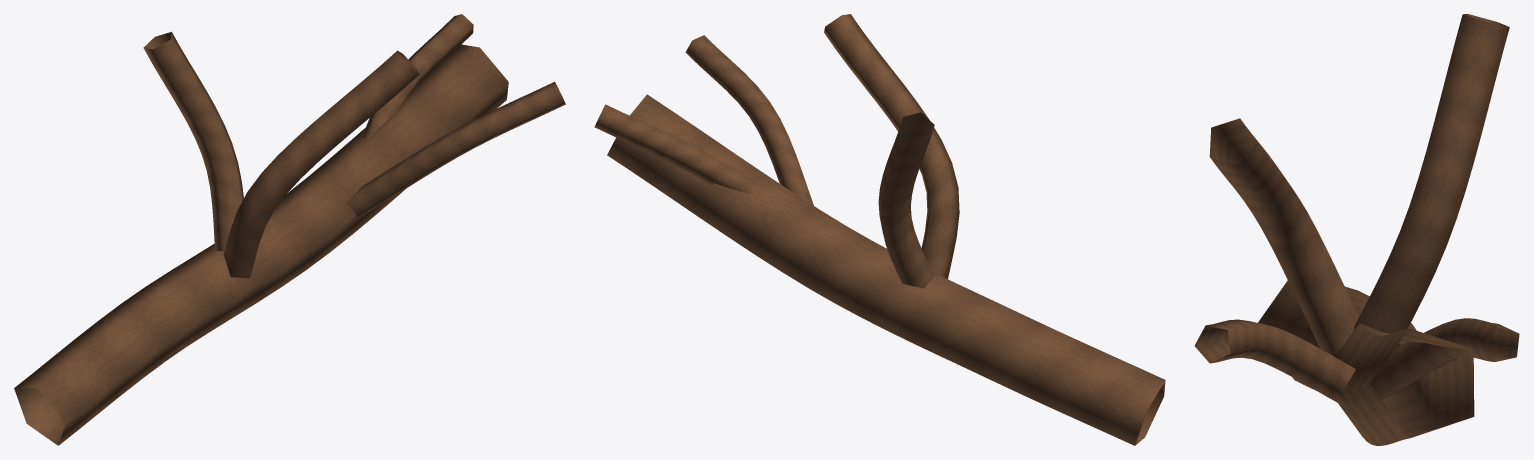
The model's file is driftwood.glb.
3 views of the same model, side by side, from view 1: azimuth 30°, elevation 25°; view 2: azimuth 150°, elevation 25°; view 3: azimuth 270°, elevation 25° (orthographic). The views are drawn at different scales.
Parts seen in each view (by area): view 1: static_ornament; view 2: static_ornament; view 3: static_ornament.
Part boxes in pixels (left/top/right/bottom): static_ornament: left=14, top=14, right=565, bottom=445; static_ornament: left=594, top=14, right=1165, bottom=445; static_ornament: left=1194, top=14, right=1519, bottom=445.
Bounding box in the file's own units: 1.54 × 0.9515 × 0.5626.
Materials: 1 (1 with a texture image).
